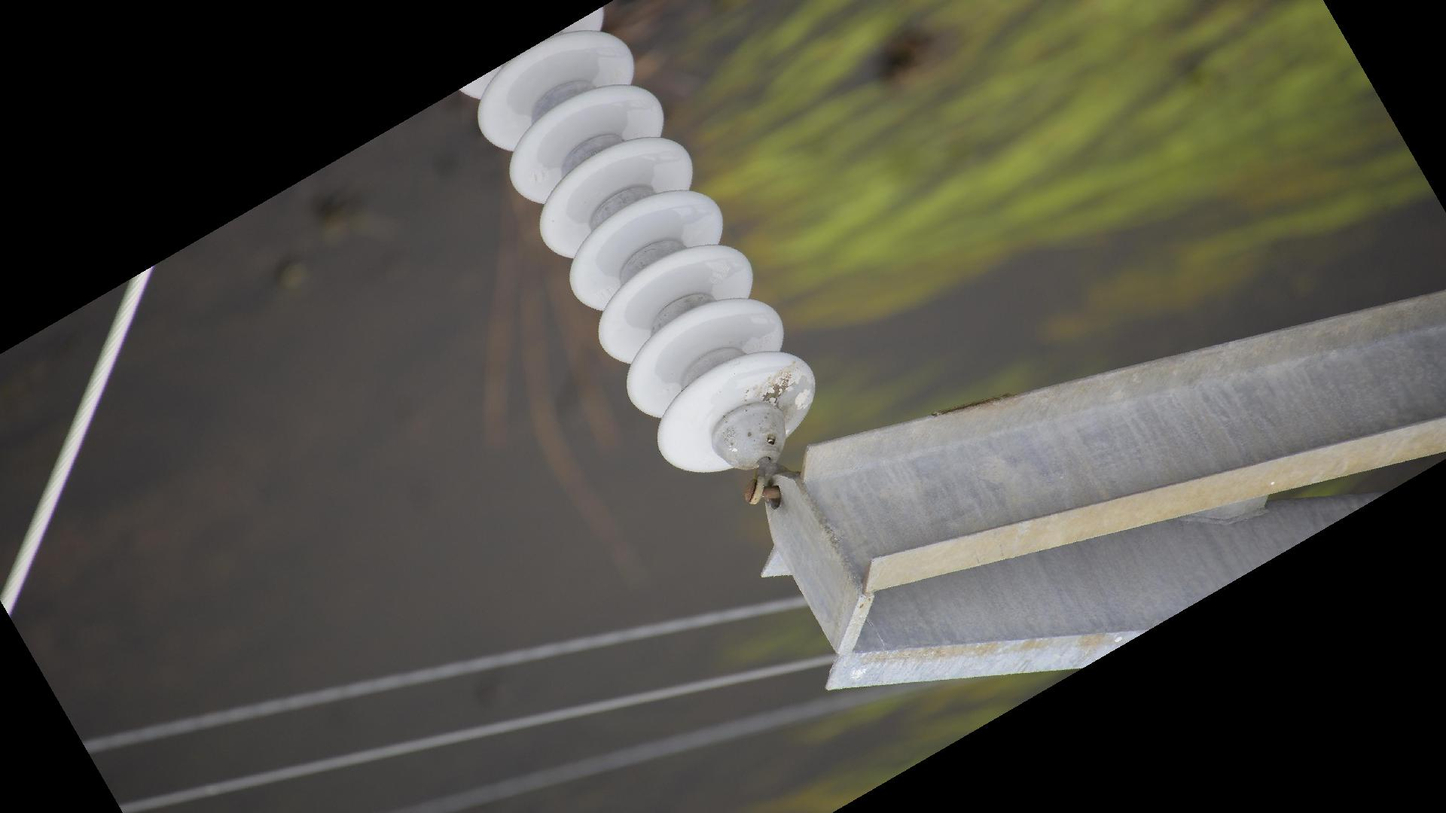insulator: (453, 1, 823, 485)
insulator_flashover: (772, 371, 818, 432)
